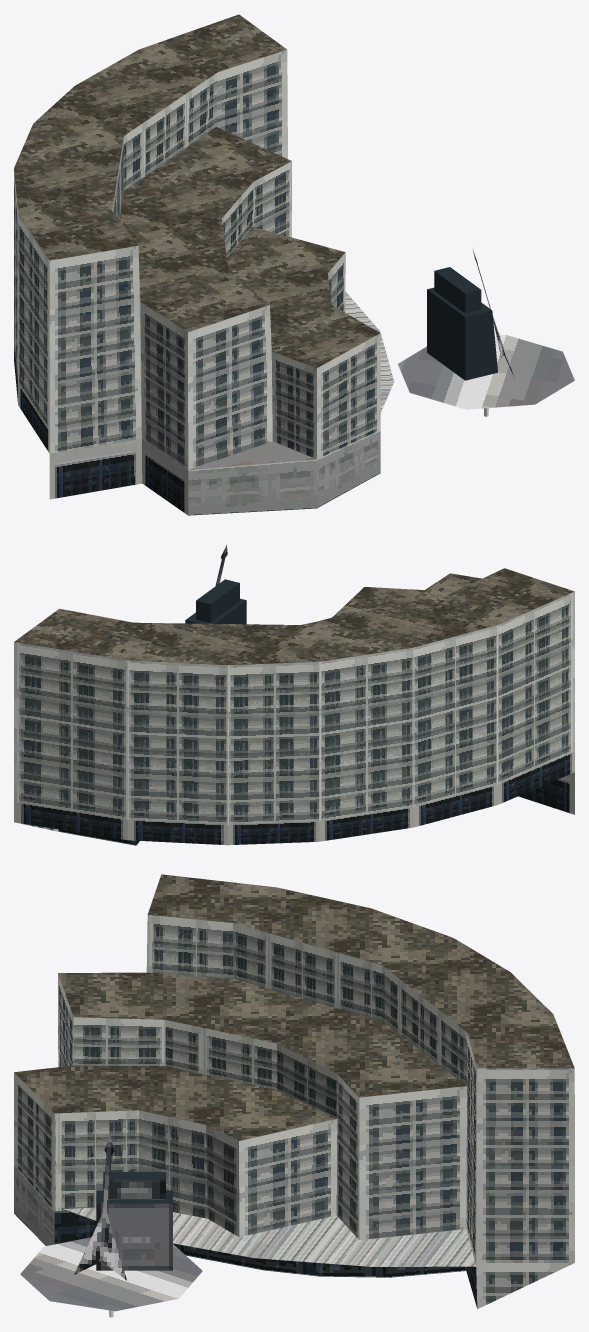
Rendered from lodckcafehtl.obj.
3 views of the same model, one above another, from view 1: azimuth 30°, elevation 25°; view 2: azimuth 150°, elevation 25°; view 3: azimuth 270°, elevation 25° (orthographic). The views are drawn at different scales.
Parts seen in each view (by area): view 1: lodckcafehtl; view 2: lodckcafehtl; view 3: lodckcafehtl.
Part boxes in pixels (x1=…): lodckcafehtl: x1=14, y1=14, x2=574, y2=515; lodckcafehtl: x1=14, y1=544, x2=574, y2=845; lodckcafehtl: x1=14, y1=874, x2=574, y2=1317.
Bounding box in the file's own units: 78.04 × 36.78 × 76.66.
5 materials, 5 textured.
